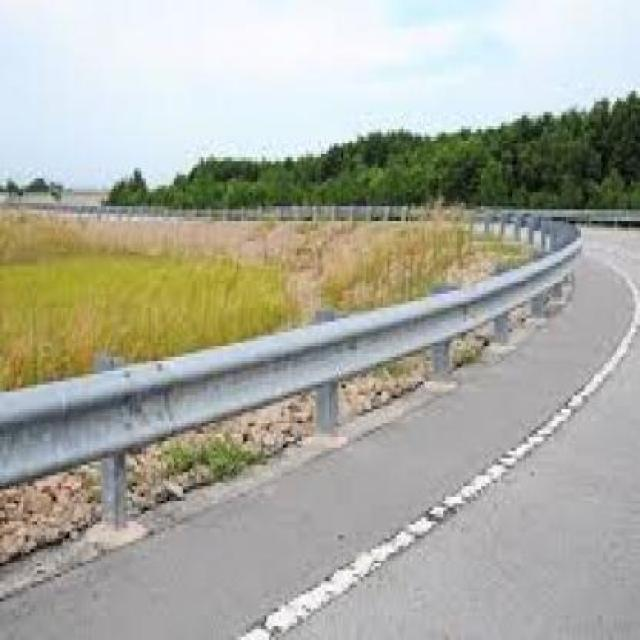Guard rail: (1, 218, 582, 568)
